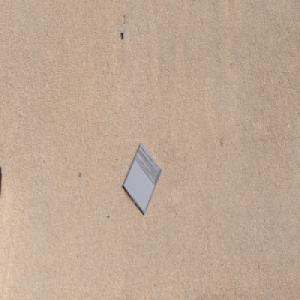PlasticPart: (122, 141, 162, 215)
